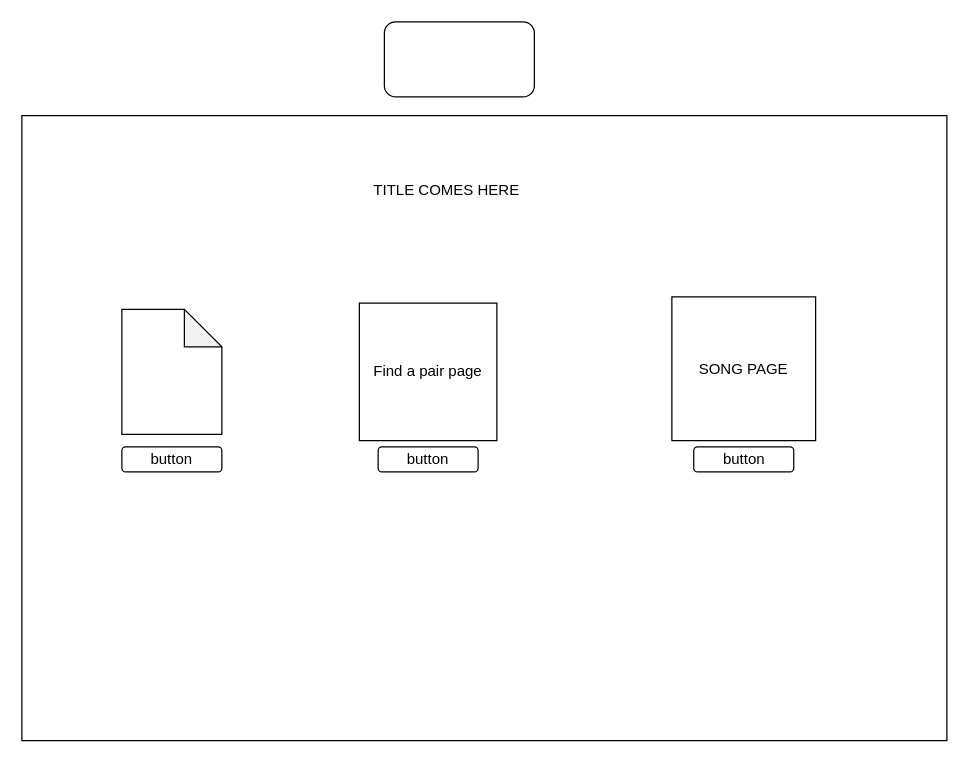
This 969x763 diagram has some shape labels left out. Each missing label, with the centre of its shape:
"HOMEPAGE" goes at point (458, 59).
"love letter" goes at point (171, 371).
